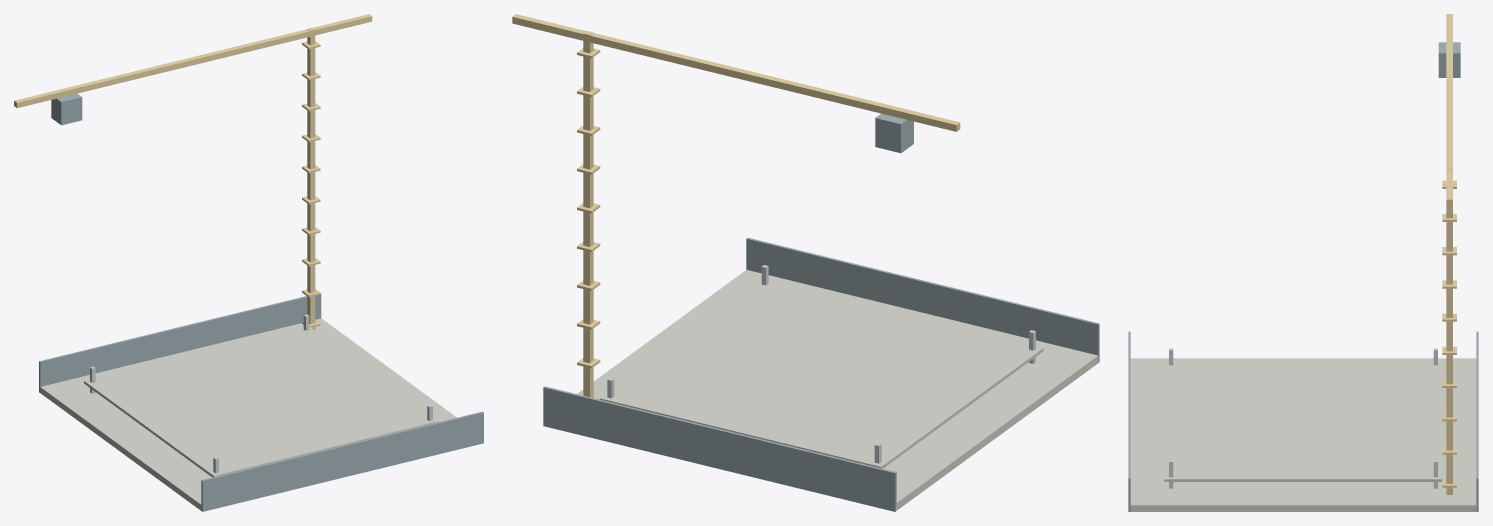
Rendered from remaster_site_2_0.glb.
3 renders of one model, left to right at view 1: azimuth 30°, elevation 25°; view 2: azimuth 150°, elevation 25°; view 3: azimuth 270°, elevation 25°, orthographic. The views are drawn at different scales.
Visible parts, largest first — view 1: remaster_site_2_0 stone, remaster_site_2_0 roof, remaster_site_2_0 gold; view 2: remaster_site_2_0 stone, remaster_site_2_0 roof, remaster_site_2_0 gold; view 3: remaster_site_2_0 stone, remaster_site_2_0 gold, remaster_site_2_0 roof, remaster_site_2_0 metal.
Boxes of the visible parts, bbox=[...] form: remaster_site_2_0 stone: bbox=[39, 318, 456, 510]; remaster_site_2_0 roof: bbox=[39, 93, 483, 511]; remaster_site_2_0 gold: bbox=[14, 14, 372, 330]; remaster_site_2_0 stone: bbox=[577, 269, 1098, 510]; remaster_site_2_0 roof: bbox=[543, 113, 1099, 511]; remaster_site_2_0 gold: bbox=[512, 14, 960, 399]; remaster_site_2_0 stone: bbox=[1129, 358, 1477, 511]; remaster_site_2_0 gold: bbox=[1442, 14, 1456, 494]; remaster_site_2_0 roof: bbox=[1128, 42, 1478, 511]; remaster_site_2_0 metal: bbox=[1169, 348, 1437, 488].
Size of the model in its own units: 24 by 20 by 19.14.
